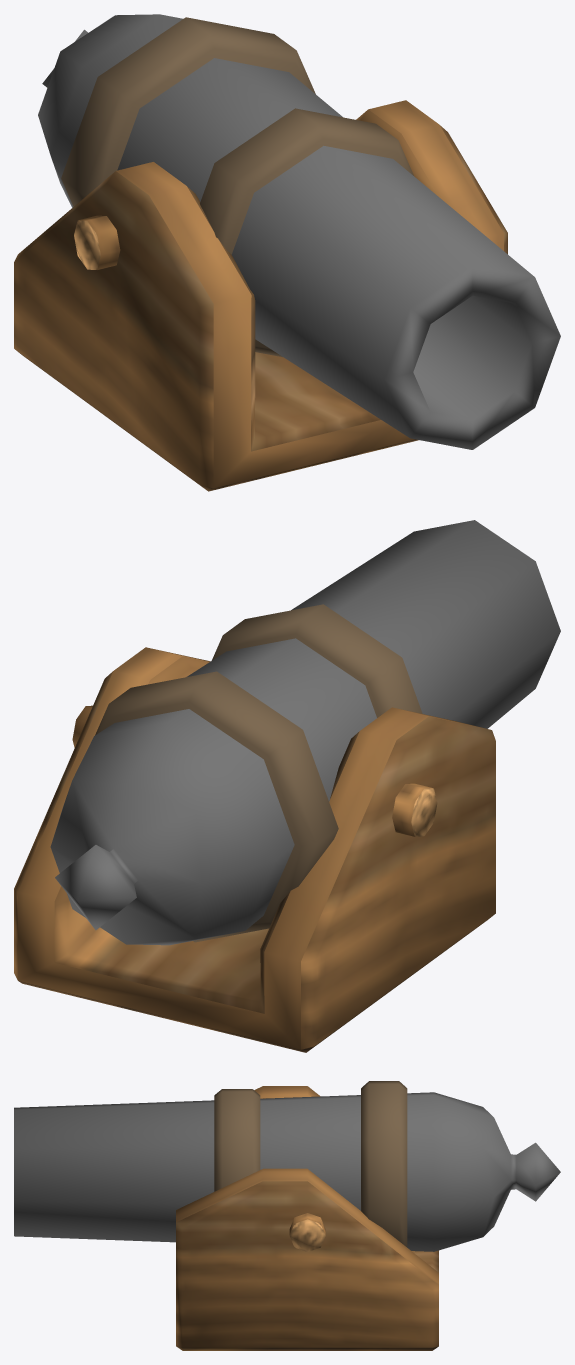
Rendered from canon.fbx.
The picture shows the model from 3 angles, top to bottom: view 1: azimuth 30°, elevation 25°; view 2: azimuth 150°, elevation 25°; view 3: azimuth 270°, elevation 25°; orthographic projection. The views are drawn at different scales.
Parts seen in each view (by area): view 1: Cube.002, Cube, Cube.001; view 2: Cube.002, Cube, Cube.001; view 3: Cube.002, Cube, Cube.001.
Part boxes in pixels (x1,y1,x2,y2): Cube.002: [38, 14, 560, 449]; Cube: [14, 100, 507, 491]; Cube.001: [74, 215, 120, 269]; Cube.002: [50, 520, 560, 945]; Cube: [14, 647, 495, 1052]; Cube.001: [72, 705, 437, 836]; Cube.002: [14, 1081, 560, 1251]; Cube: [176, 1086, 438, 1350]; Cube.001: [289, 1213, 325, 1251].
Size of the model in its own units: 144 by 128 by 292.
